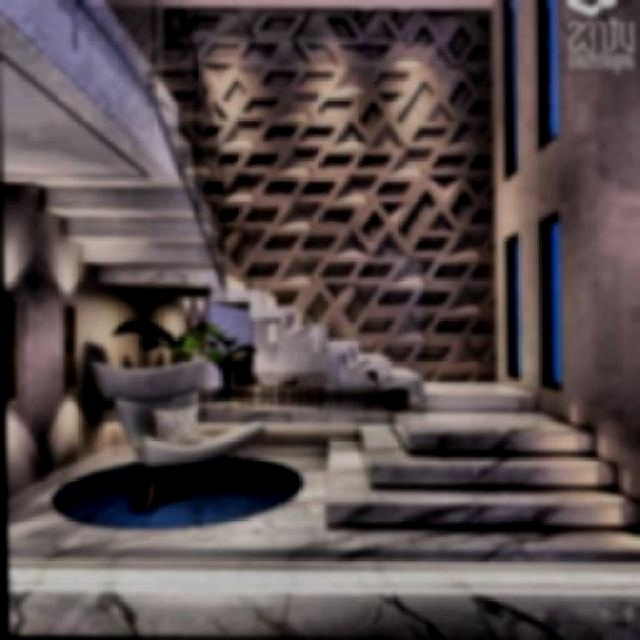stair: (311, 382, 640, 543)
